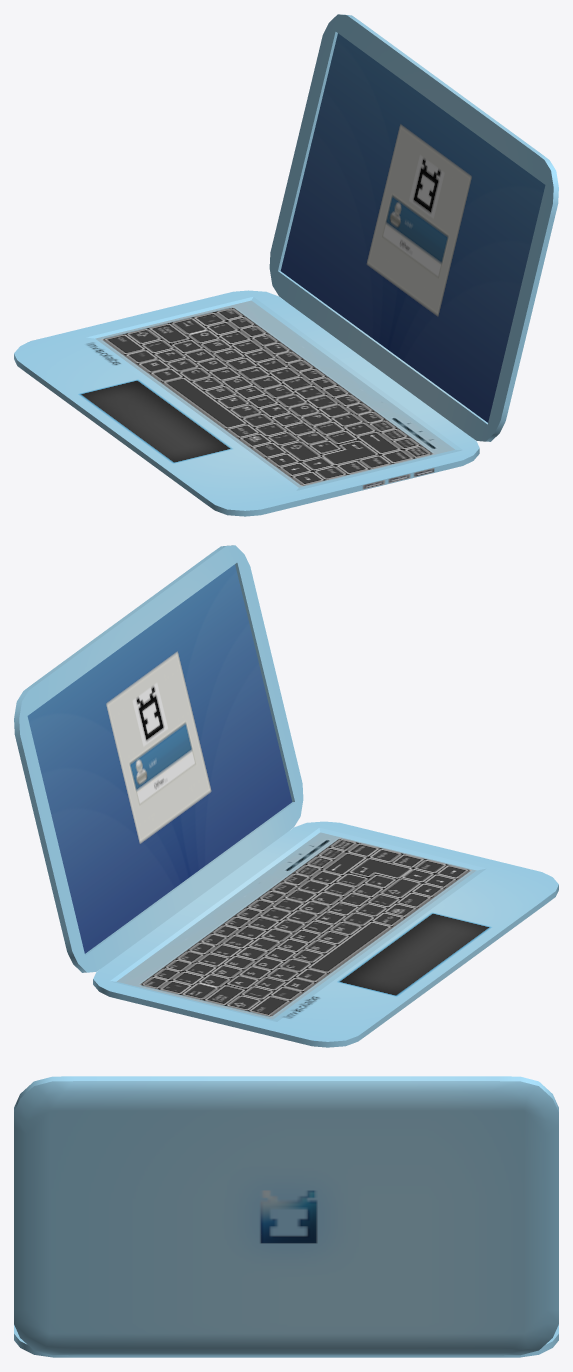
The model's file is Laptop.FBX.
3 views of the same model, one above another, from view 1: azimuth 30°, elevation 25°; view 2: azimuth 150°, elevation 25°; view 3: azimuth 270°, elevation 25° (orthographic). The views are drawn at different scales.
Parts seen in each view (by area): view 1: Laptop; view 2: Laptop; view 3: Laptop.
Boxes of the visible parts, x1,y1,x2,y2 form: Laptop: [14, 14, 558, 516]; Laptop: [14, 545, 558, 1047]; Laptop: [14, 1076, 558, 1357].
Bounding box in the file's own units: 514 × 401 × 606.
Materials: 1 (1 with a texture image).
